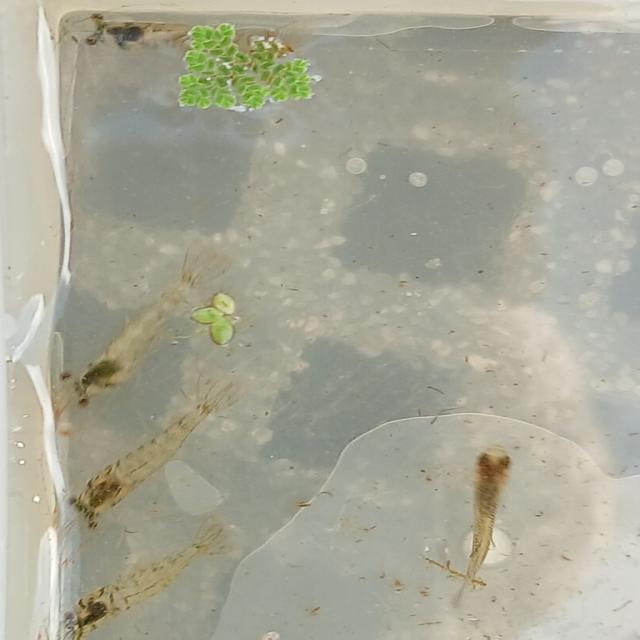Sivrisinek Baligi: (47, 245, 228, 421), (50, 380, 247, 522), (55, 527, 228, 640), (442, 443, 518, 601)
